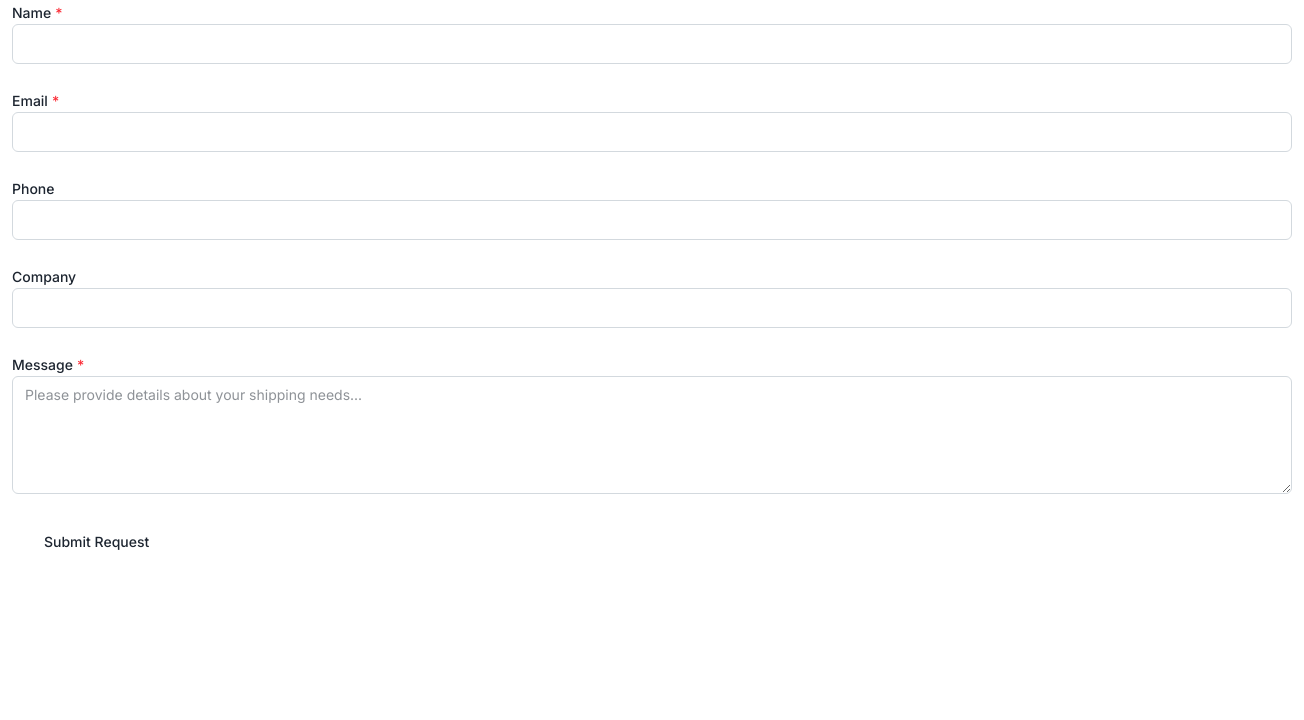
Scenario: RateRequestForm › Form Submission › displays error message on submission failure
In the field labelled "Name*": (652, 44) [12, 24, 1292, 64], type "John Doe"
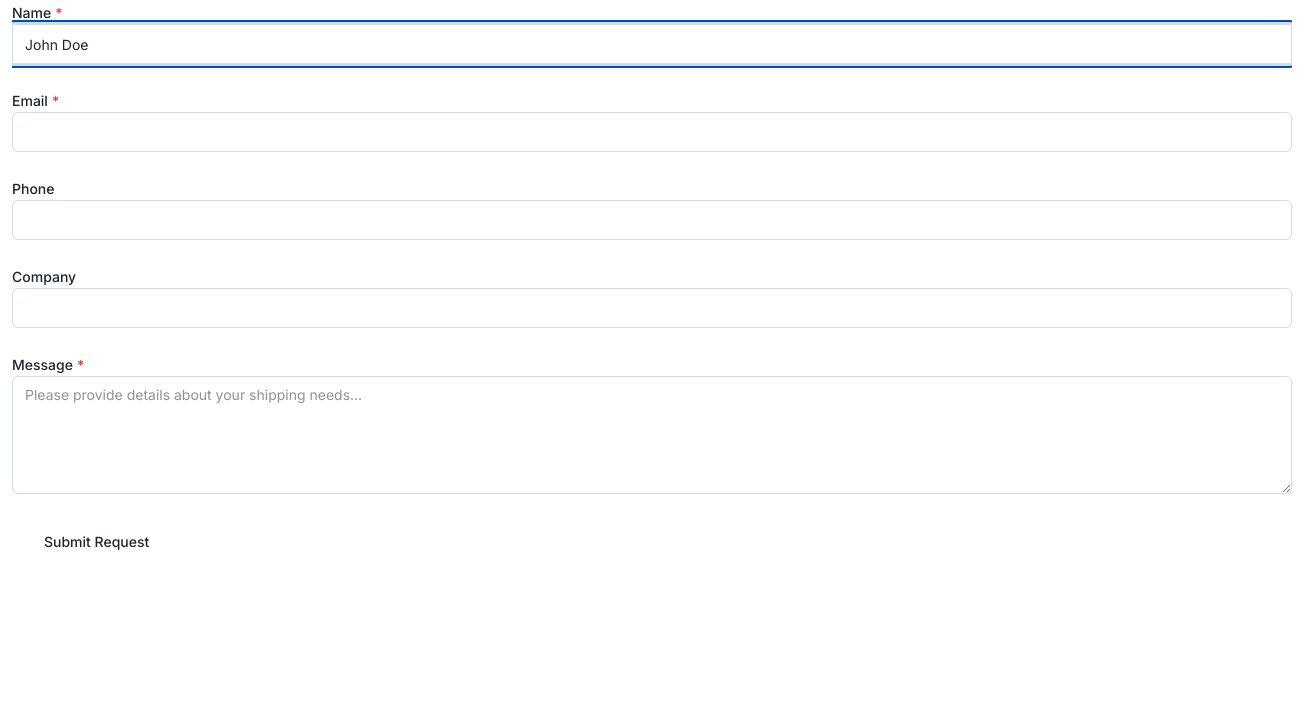
In the field labelled "Email*": (652, 132) [12, 112, 1292, 152], type "john@example.com"
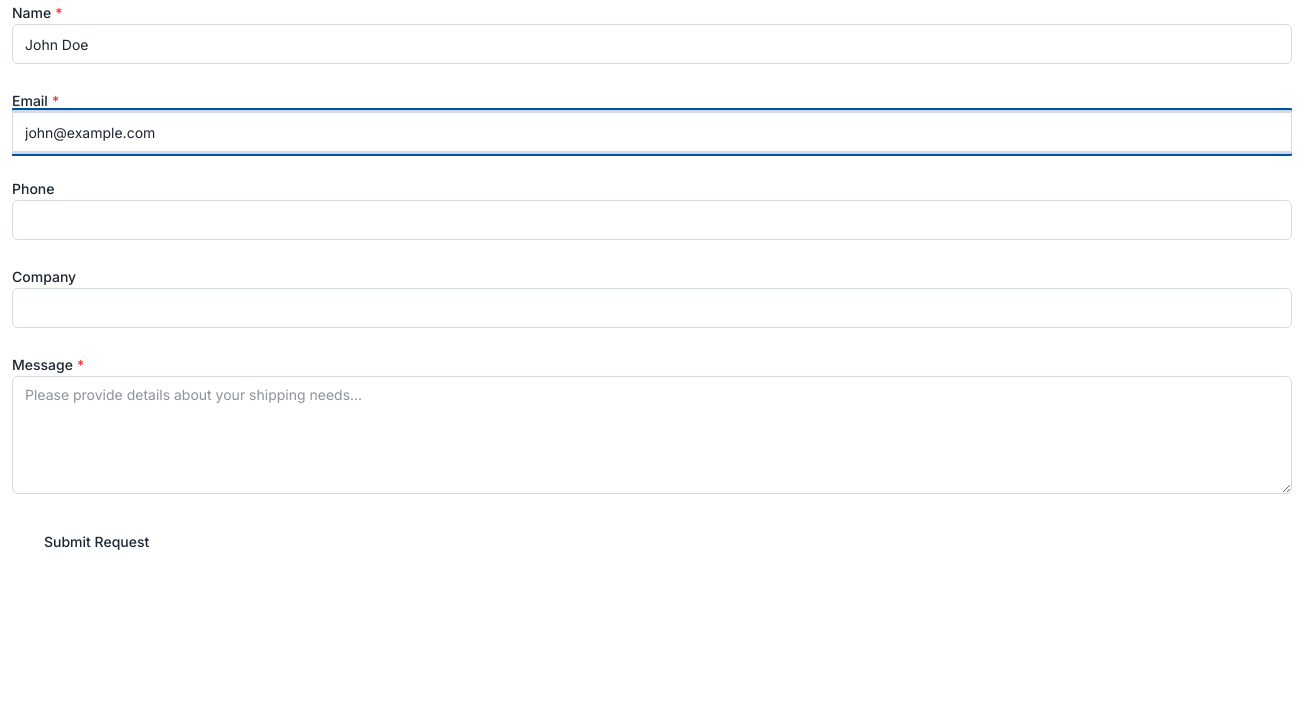
In the text box labelled "Message*": (652, 435) [12, 376, 1292, 494], type "Need quote"
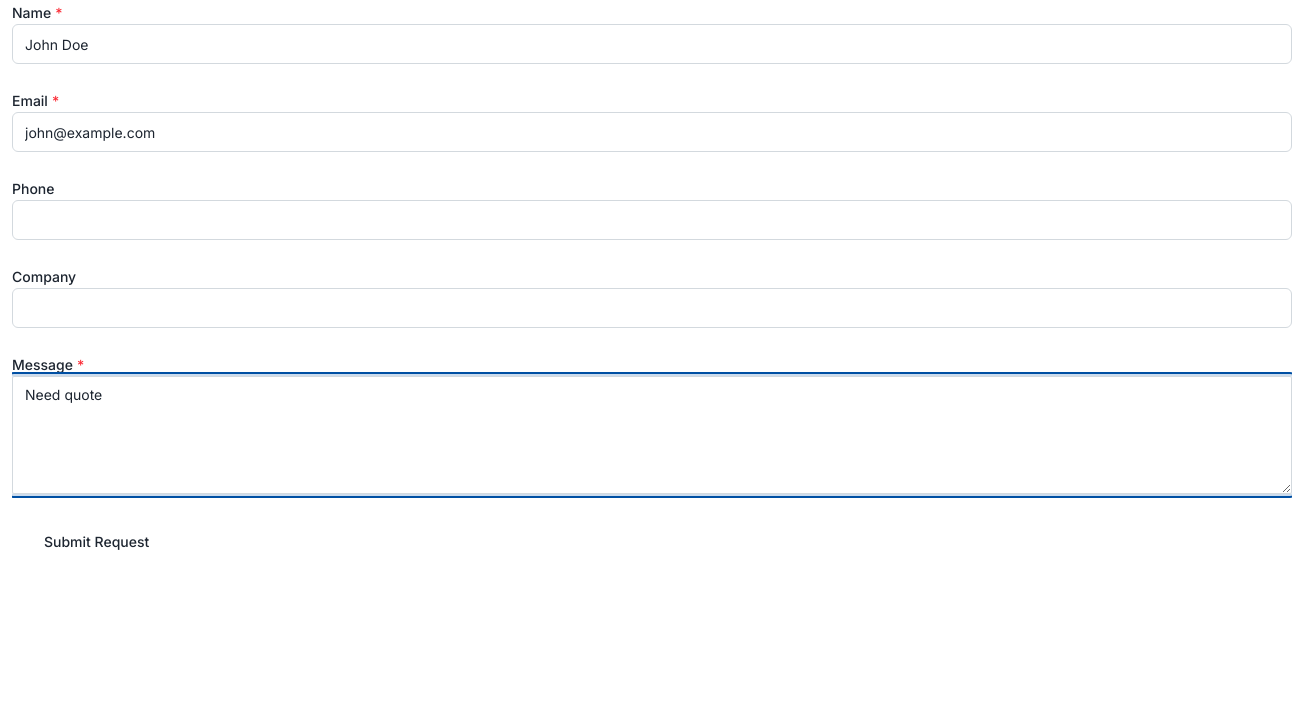
Click the button "Submit Request": (97, 542) [12, 518, 181, 566]
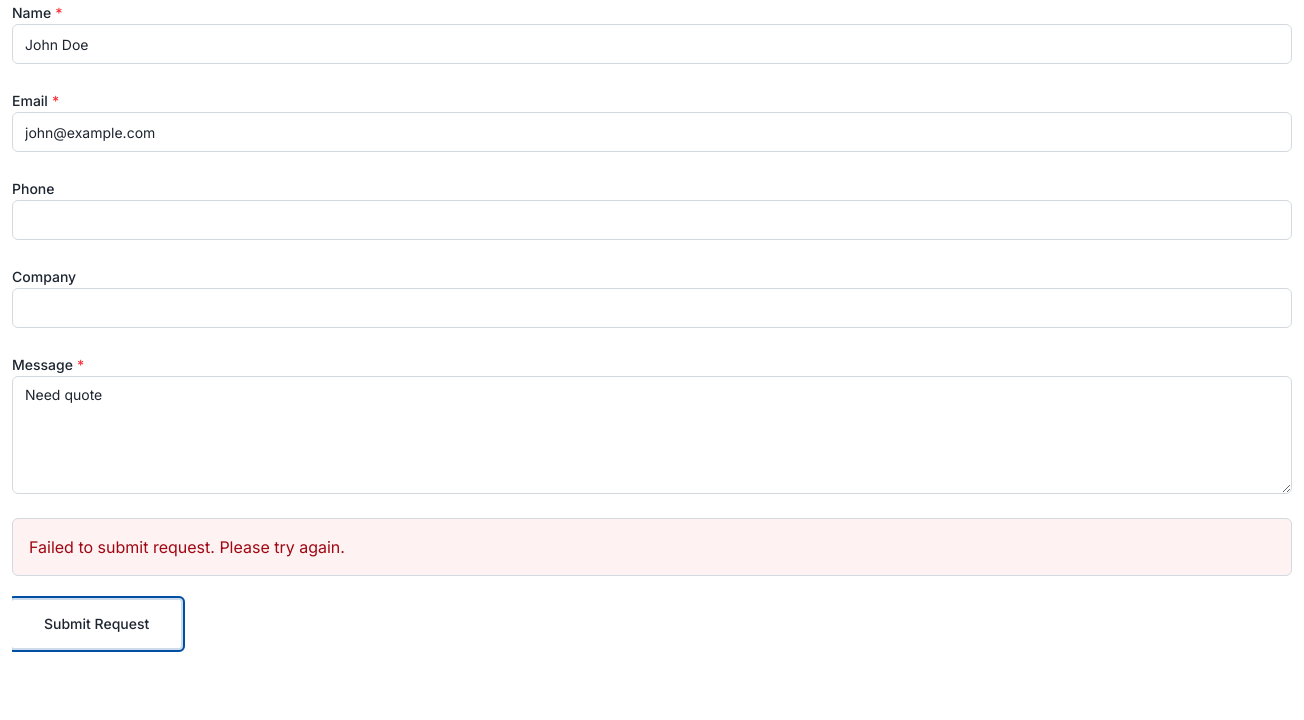
Result: the text "Failed to submit request. Please try again." is shown at [12, 518, 1292, 576]
